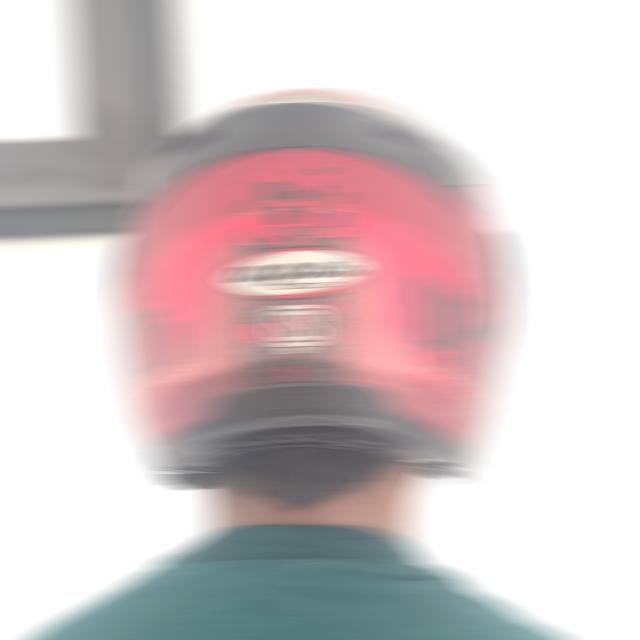With Helmet: (107, 85, 514, 495)
